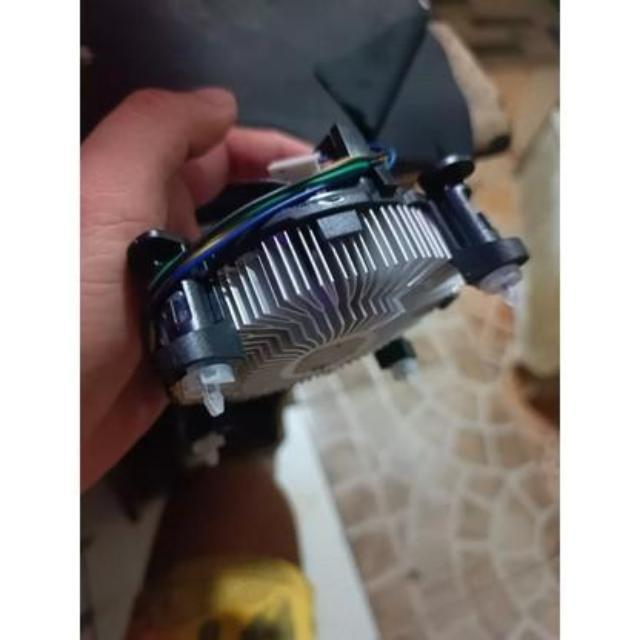CPU_Fan: (146, 141, 517, 424)
